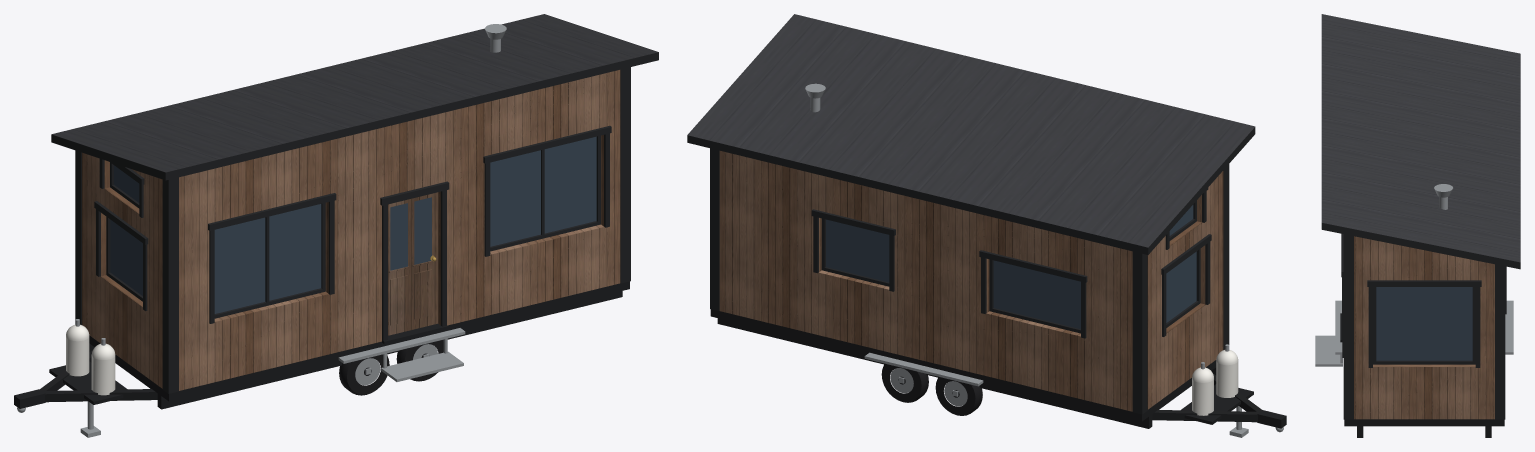
File: tiny-house.glb
3 renders of one model, left to right at view 1: azimuth 30°, elevation 25°; view 2: azimuth 150°, elevation 25°; view 3: azimuth 270°, elevation 25°, orthographic. The views are drawn at different scales.
Visible parts, largest first — view 1: Tiny_House; view 2: Tiny_House; view 3: Tiny_House.
Boxes of the visible parts, left/top/right/bottom form: Tiny_House: left=14, top=14, right=658, bottom=437; Tiny_House: left=687, top=14, right=1286, bottom=437; Tiny_House: left=1315, top=14, right=1520, bottom=437.
Bounding box in the file's own units: 9.1 × 4.3 × 3.2.
11 materials, 4 textured.
